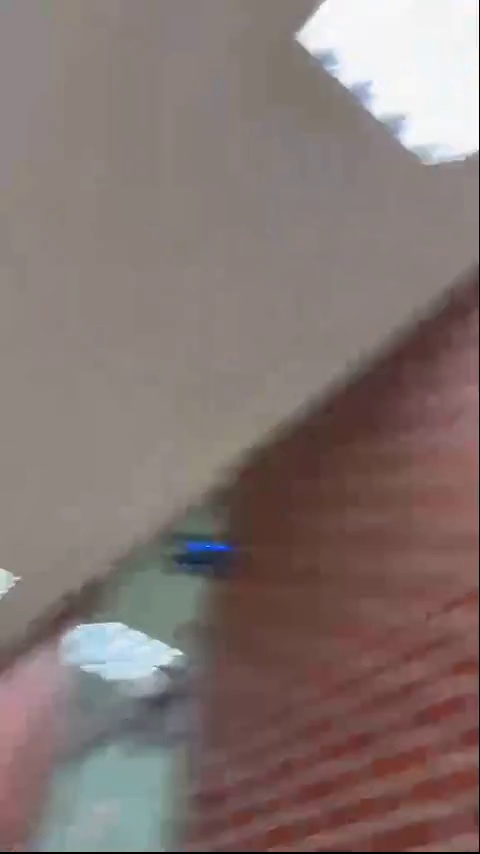drone: (168, 533, 236, 583)
